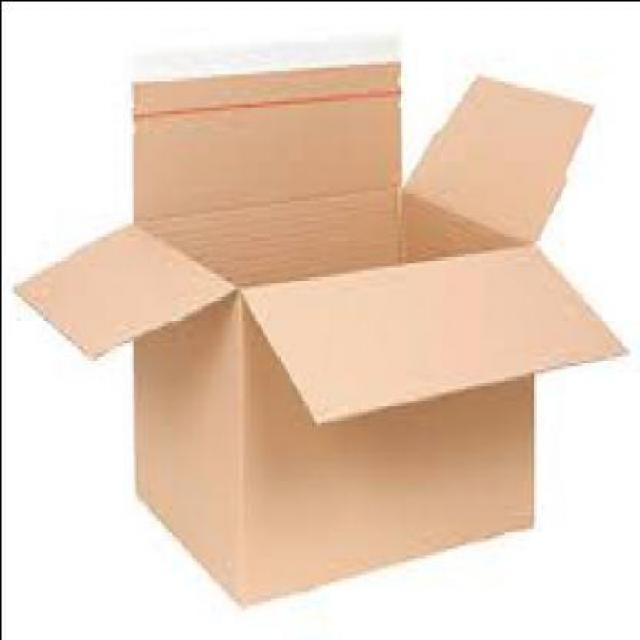box: (15, 57, 631, 601)
